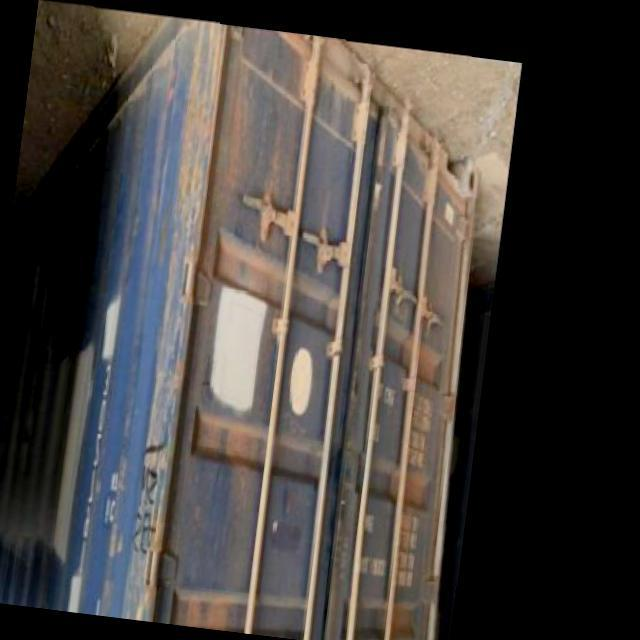rust: (119, 15, 223, 567), (207, 62, 275, 224), (196, 243, 305, 307), (184, 415, 273, 473), (371, 465, 442, 515), (388, 347, 441, 399)
